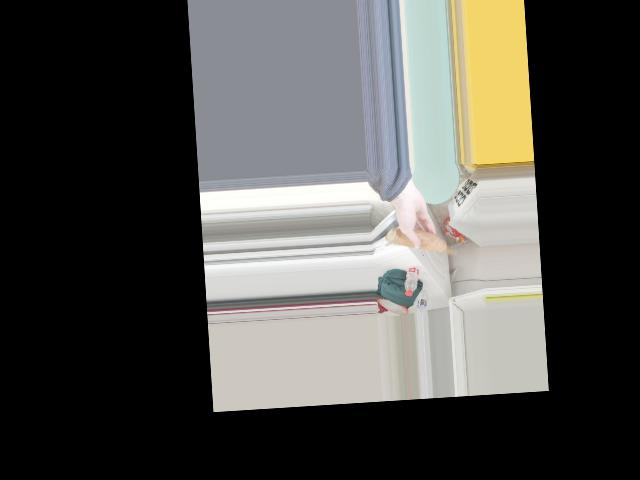sweet_potato: (389, 222, 454, 261)
